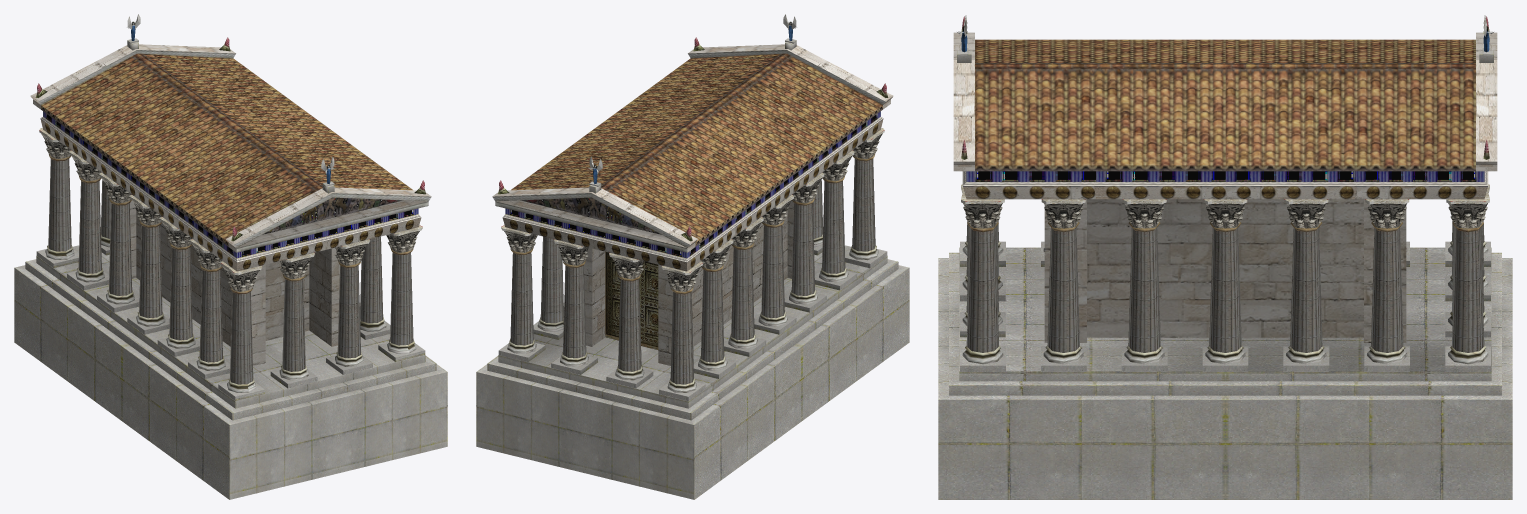
File: mace_temple.glb
3 views of the same model, side by side, from view 1: azimuth 30°, elevation 25°; view 2: azimuth 150°, elevation 25°; view 3: azimuth 270°, elevation 25° (orthographic). The views are drawn at different scales.
Parts seen in each view (by area): view 1: mace_temple_part0, mace_temple_part3, mace_temple_part2, mace_temple_part1; view 2: mace_temple_part0, mace_temple_part3, mace_temple_part2, mace_temple_part1; view 3: mace_temple_part0, mace_temple_part3, mace_temple_part2, mace_temple_part1.
Boxes of the visible parts, <box> form: mace_temple_part0: <box>30,44,431,392</box>; mace_temple_part3: <box>14,38,447,499</box>; mace_temple_part2: <box>36,14,425,384</box>; mace_temple_part1: <box>39,128,422,294</box>; mace_temple_part0: <box>492,44,893,392</box>; mace_temple_part3: <box>476,38,909,499</box>; mace_temple_part2: <box>498,14,887,384</box>; mace_temple_part1: <box>501,128,884,294</box>; mace_temple_part0: <box>953,32,1497,364</box>; mace_temple_part3: <box>938,48,1512,499</box>; mace_temple_part2: <box>957,15,1493,352</box>; mace_temple_part1: <box>961,184,1489,232</box>.
Bounding box in the file's own units: 2.93 × 3.96 × 5.
4 materials, 4 textured.
